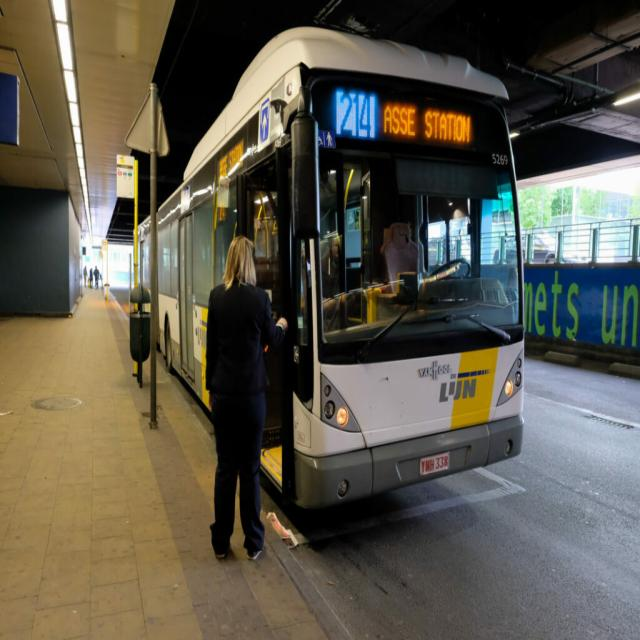bus-number: (337, 91, 373, 142)
